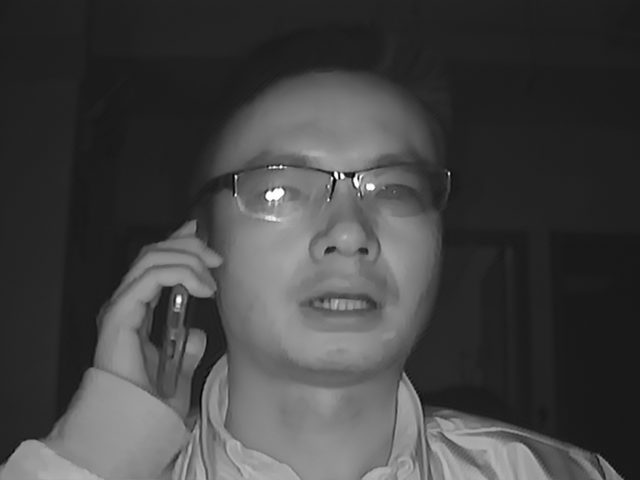hand: (94, 220, 219, 391)
